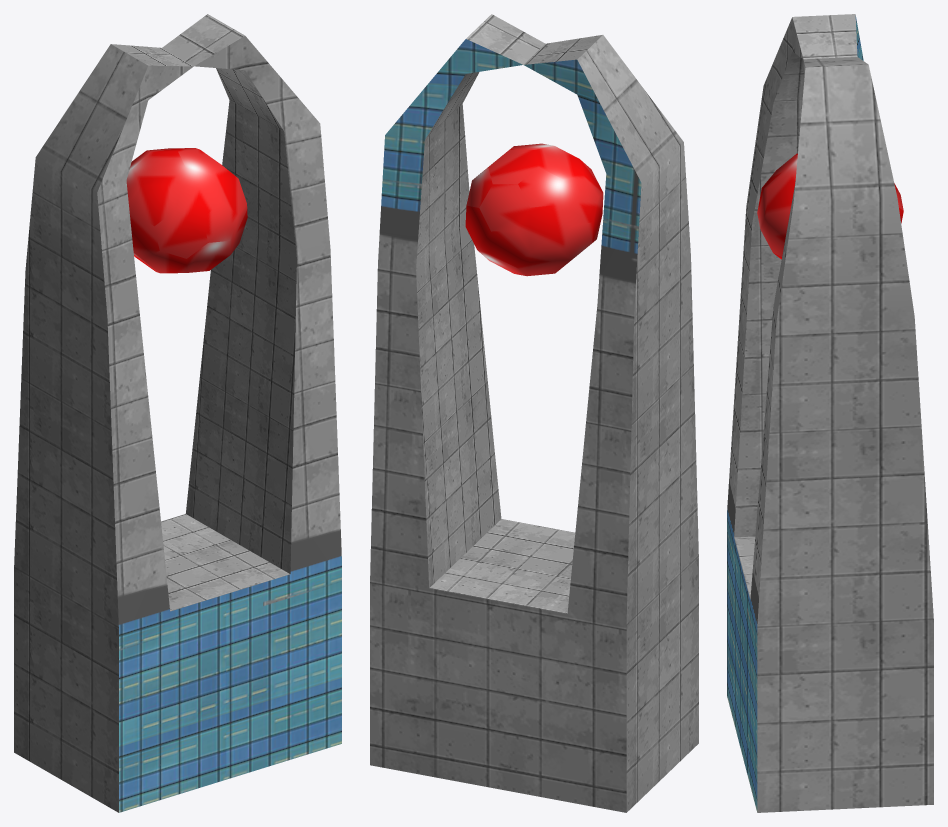
Rendered from Cluster_3.fbx.
The picture shows the model from 3 angles, left to right: view 1: azimuth 30°, elevation 25°; view 2: azimuth 150°, elevation 25°; view 3: azimuth 270°, elevation 25°; orthographic projection.
Parts seen in each view (by area): view 1: pCube2Shape_MASH1_Instancer_79; view 2: pCube2Shape_MASH1_Instancer_79; view 3: pCube2Shape_MASH1_Instancer_79.
Part boxes in pixels (box(x1,y1,x2,y2)): pCube2Shape_MASH1_Instancer_79: box(14, 14, 341, 812); pCube2Shape_MASH1_Instancer_79: box(370, 14, 698, 812); pCube2Shape_MASH1_Instancer_79: box(727, 14, 933, 812).
Size of the model in its own units: 10.04 by 26.66 by 7.04.
